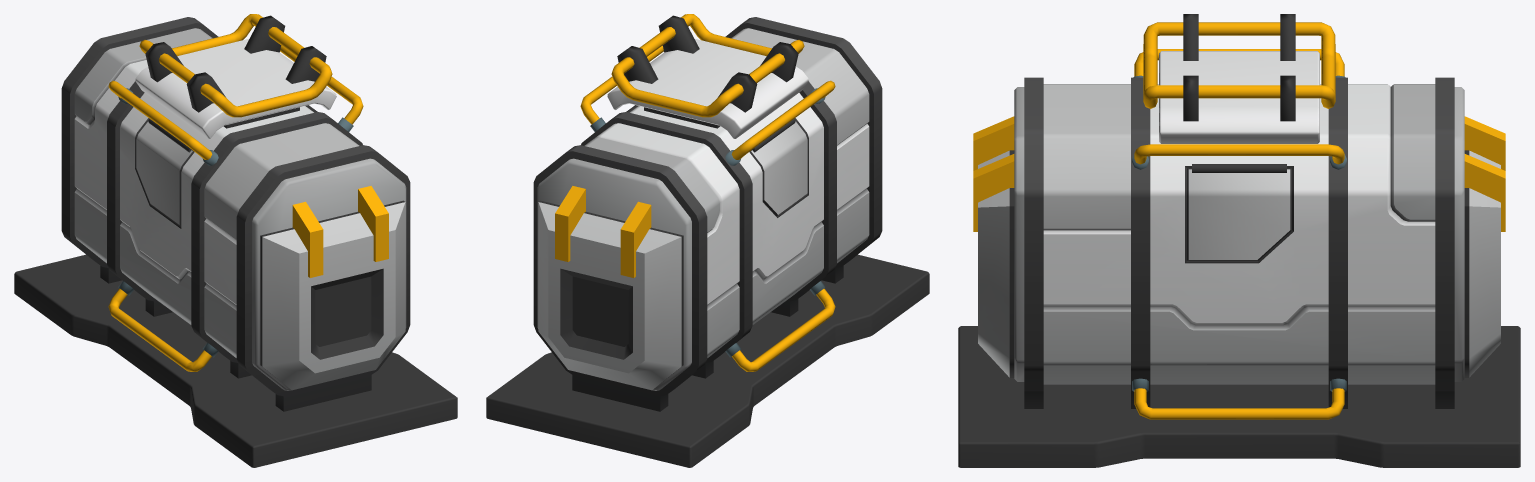
The model's file is Generator_016.glb.
3 renders of one model, left to right at view 1: azimuth 30°, elevation 25°; view 2: azimuth 150°, elevation 25°; view 3: azimuth 270°, elevation 25°, orthographic. The views are drawn at different scales.
Parts seen in each view (by area): view 1: Generator_016, Generator_rotor_012; view 2: Generator_016, Generator_rotor_012; view 3: Generator_016, Generator_rotor_011.
Boxes of the visible parts, x1,y1,x2,y2 form: Generator_016: (14, 14, 457, 467); Generator_rotor_012: (136, 121, 194, 225); Generator_016: (486, 14, 929, 467); Generator_rotor_012: (749, 121, 807, 215); Generator_016: (958, 14, 1520, 467); Generator_rotor_011: (1187, 168, 1291, 260).
Bounding box in the file's own units: 1.53 × 2.19 × 3.09.
Materials: 2 (2 with a texture image).
